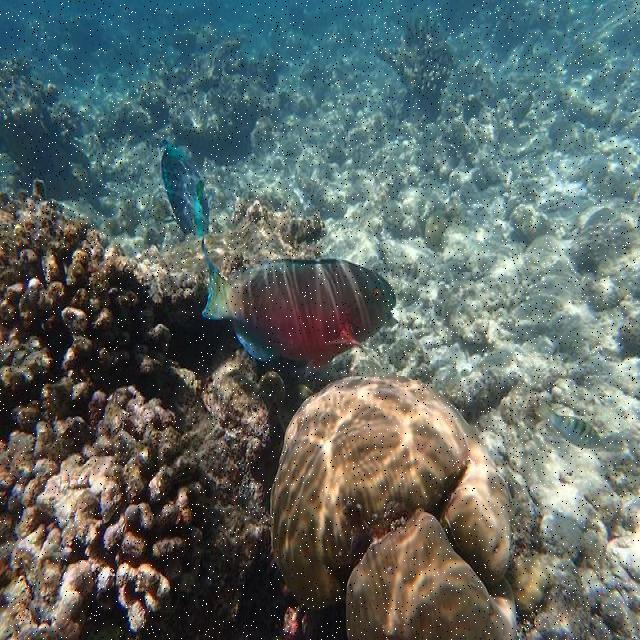fish: (202, 240, 399, 366), (159, 144, 210, 238)
reefs: (9, 178, 210, 639)
